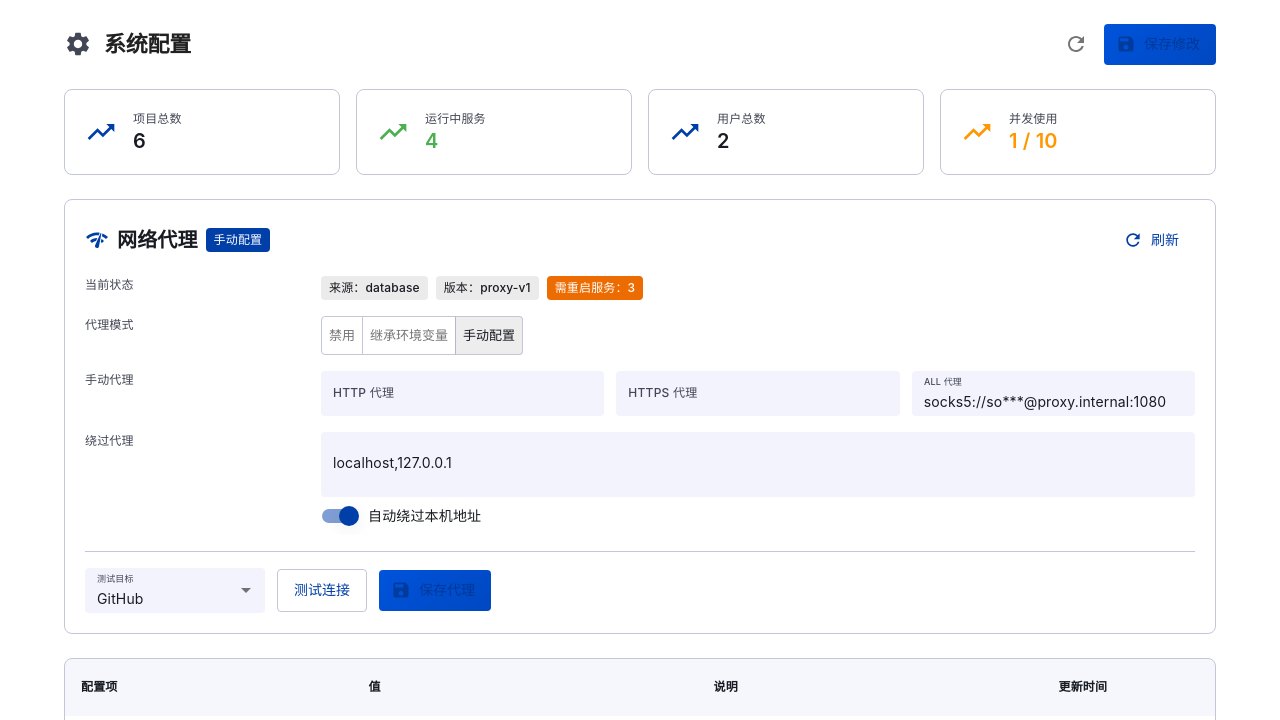
Test: AdminConfig network proxy panel › 未配置的 secret 输入脱敏占位符时不提交 set
The image size is (1280, 720).
In the field labelled "HTTP 代理": [463, 393] box [321,371,604,416], type "http://***@proxy.internal:8080"
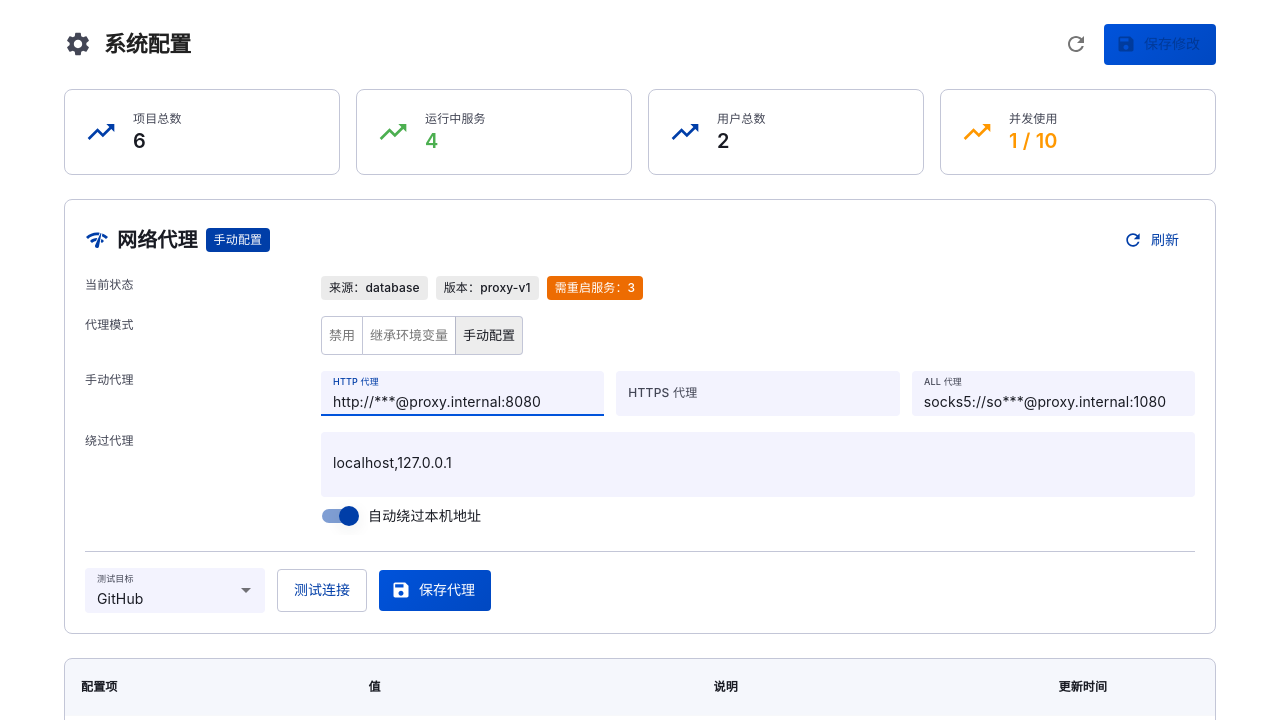
Click the button "保存代理": [435, 590] box [379,570,491,611]
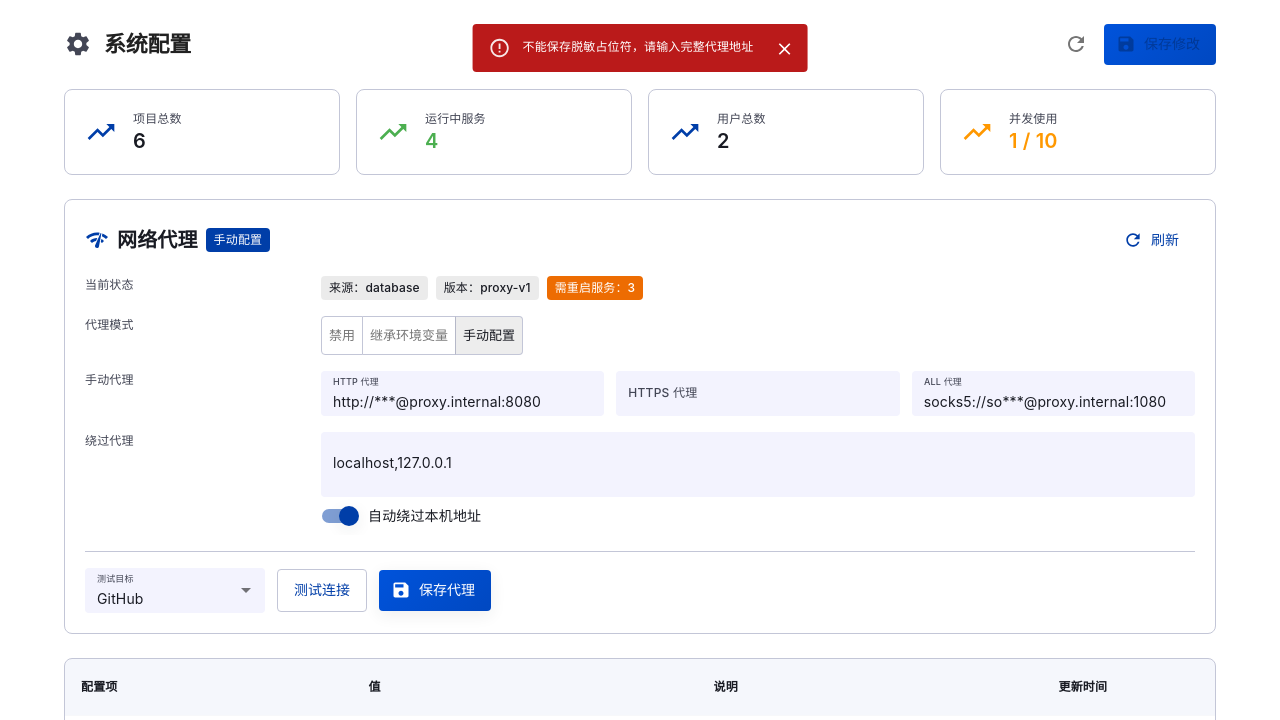
Check: the text "不能保存脱敏占位符，请输入完整代理地址" is shown, box [523,39,754,54]
